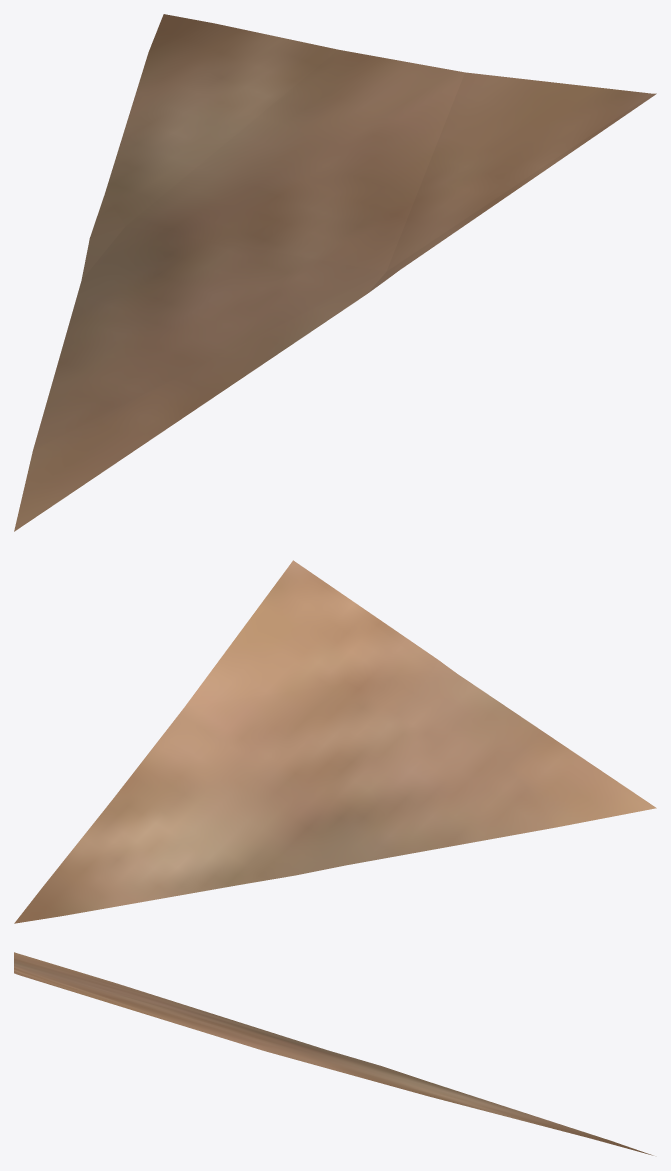
3 renders of one model, top to bottom at view 1: azimuth 30°, elevation 25°; view 2: azimuth 150°, elevation 25°; view 3: azimuth 270°, elevation 25°, orthographic. The views are drawn at different scales.
Bounding box in the file's own units: 0.1005 × 0.042 × 0.1336.
1 material, 1 textured.
